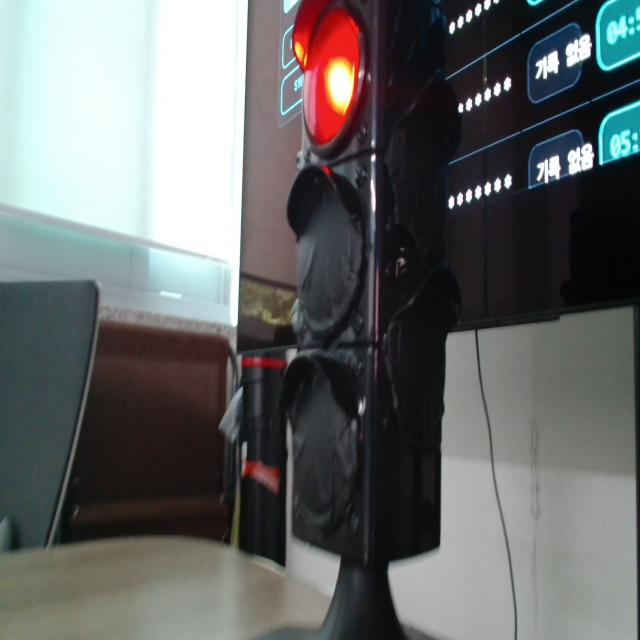red_light: (302, 8, 362, 148)
